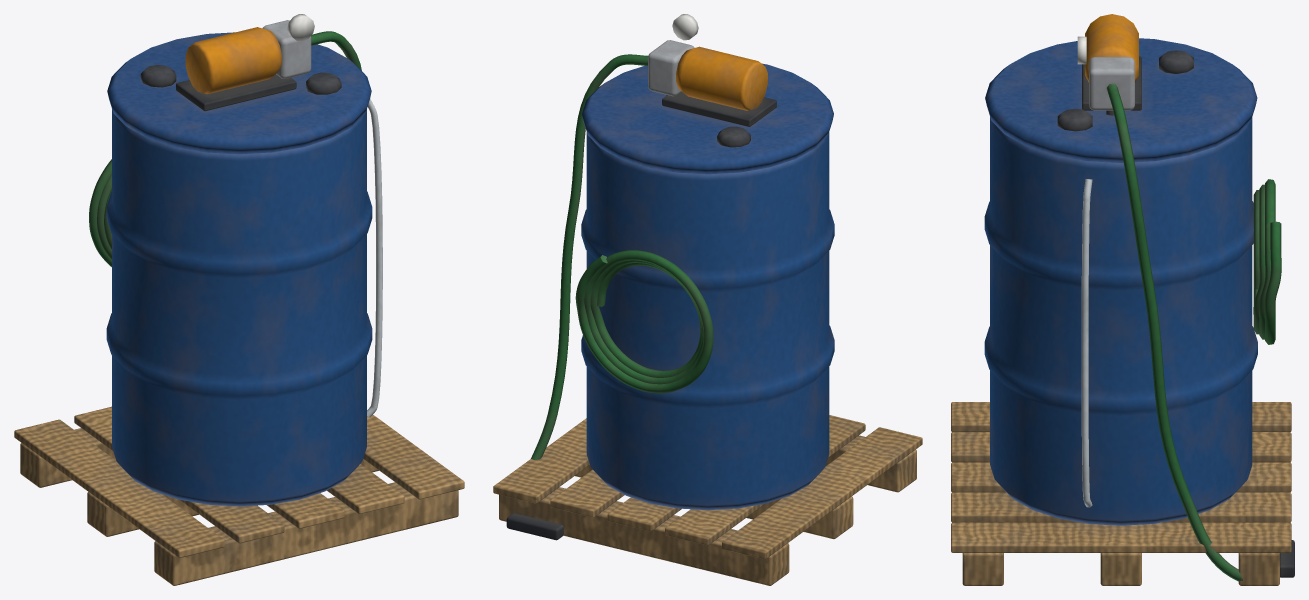
File: kryj_zbiornik.glb
3 renders of one model, left to right at view 1: azimuth 30°, elevation 25°; view 2: azimuth 150°, elevation 25°; view 3: azimuth 270°, elevation 25°, orthographic. The views are drawn at different scales.
Visible parts, largest first — view 1: Zbiornik; view 2: Zbiornik; view 3: Zbiornik.
Boxes of the visible parts, left/top/right/bottom form: Zbiornik: left=14, top=14, right=464, bottom=585; Zbiornik: left=493, top=14, right=922, bottom=585; Zbiornik: left=951, top=14, right=1294, bottom=585.
Size of the model in its own units: 0.7482 by 1.2 by 0.7475.
1 material, 1 textured.
